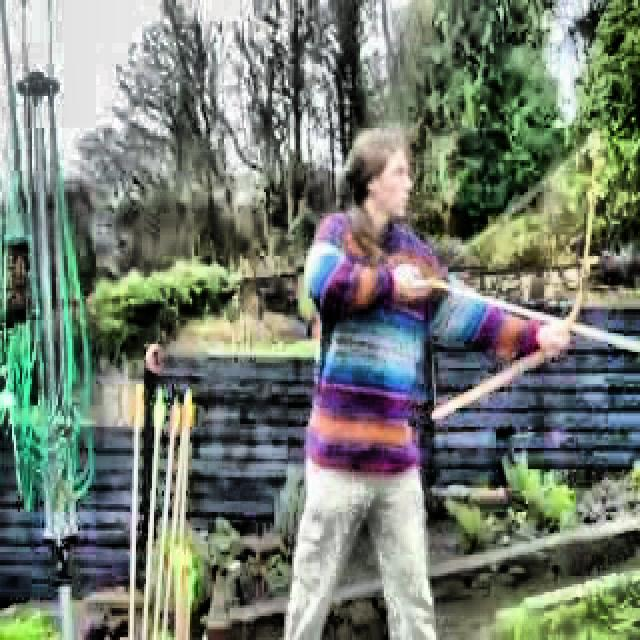I: (273, 128, 565, 634)
